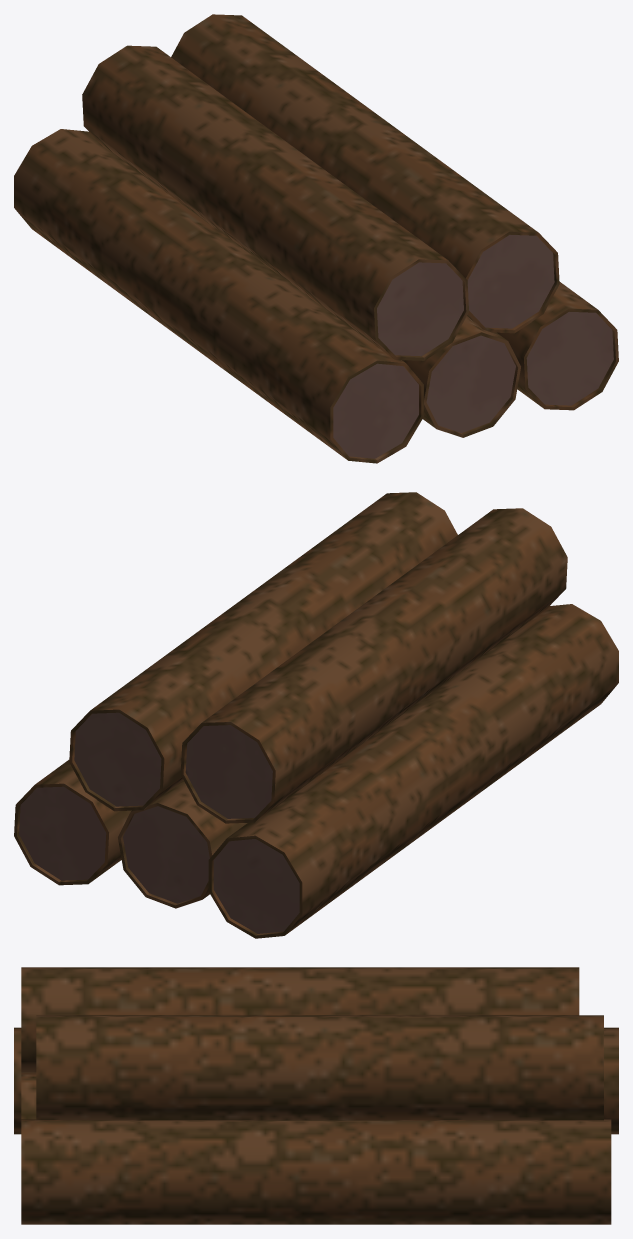
The model's file is StackOfLogs1.fbx.
3 views of the same model, one above another, from view 1: azimuth 30°, elevation 25°; view 2: azimuth 150°, elevation 25°; view 3: azimuth 270°, elevation 25° (orthographic). The views are drawn at different scales.
Visible parts, largest first — view 1: StackOfLogs1; view 2: StackOfLogs1; view 3: StackOfLogs1.
Boxes of the visible parts, box(x1,y1,x2,y2) form: StackOfLogs1: box(14, 14, 618, 463); StackOfLogs1: box(14, 492, 618, 938); StackOfLogs1: box(14, 967, 618, 1224).
Size of the model in its own units: 156 by 96.9 by 292.
Materials: 1 (1 with a texture image).
